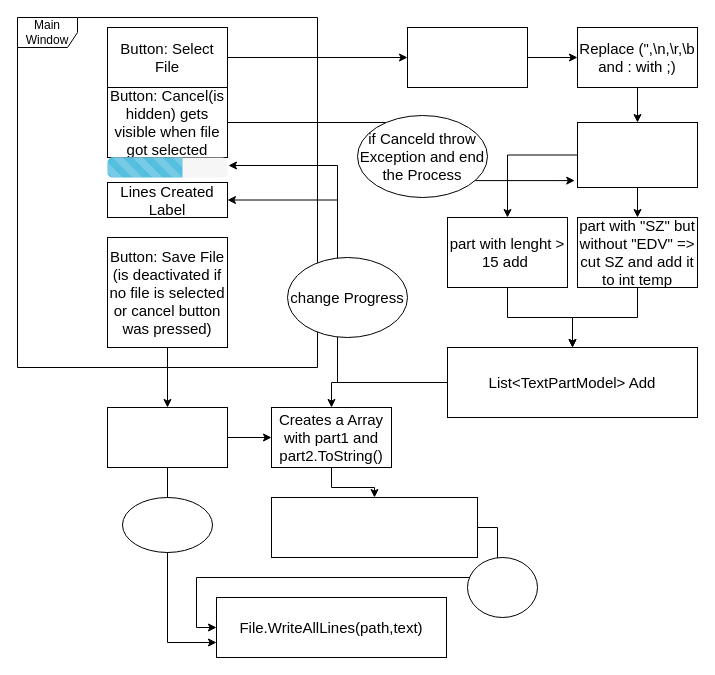
Image size: 715x675. Some labels were removed from this diagram. Each missing label, with the centre of its shape:
"foreach (var part in text.Split(';',' ')" goes at [637,155].
"Lambda OrderByDescending.ToArray()" goes at [374,527].
"path" goes at [167,524].
"ReadAllText into string" goes at [467,57].
"SaveFileDialog" goes at [167,437].
"text" goes at [502,587].
